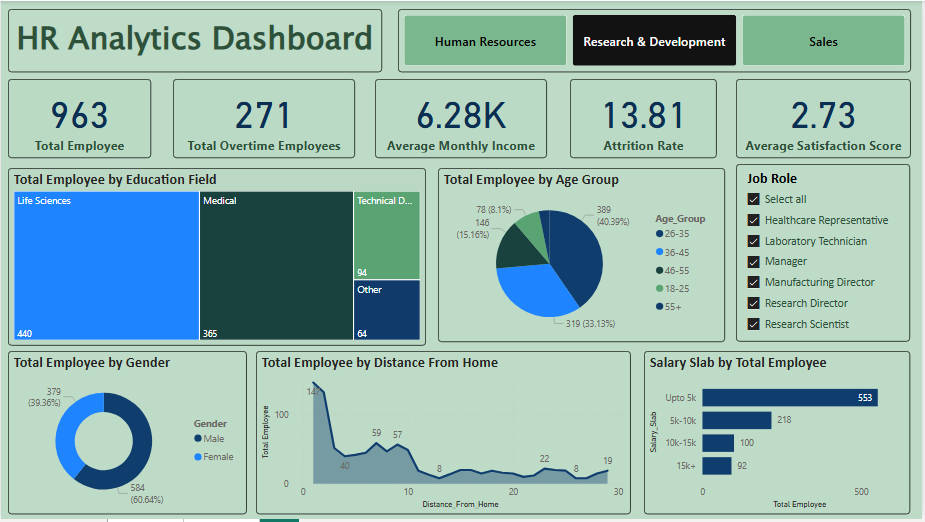

The page's visual inventory and layout, read from the dashboard file:
{"tool":"powerbi","page":{"name":"Page 1","canvas":[1280,720],"ordinal":0},"visuals":[{"type":"textbox","box":[9.7,11.1,519.8,87.6],"z":0},{"type":"card","fields":{"Values":["HR_Analytics.Total Employee"]},"box":[9.7,108.4,198.8,109.8],"z":1000},{"type":"card","fields":{"Values":["HR_Analytics.Attrition Rate"]},"box":[790.9,108.4,204.3,109.8],"z":2000},{"type":"card","fields":{"Values":["HR_Analytics.Total Overtime Employees"]},"box":[239.1,108.4,253,109.8],"z":3000},{"type":"card","fields":{"Values":["HR_Analytics.Average Monthly Income"]},"box":[519.8,108.4,239.1,109.8],"z":4000},{"type":"donutChart","fields":{"Category":["HR_Analytics.Gender"],"Y":["HR_Analytics.Total Employee"]},"box":[9.7,486.5,332.2,226.6],"z":5000},{"type":"pieChart","title":"Total Employee by Age Group","fields":{"Category":["HR_Analytics.Age_Group"],"Y":["HR_Analytics.Total Employee"]},"box":[607.4,232.1,398.9,241.9],"z":6000},{"type":"treemap","title":"Total Employee by Education Field","fields":{"Group":["HR_Analytics.Education_Field"],"Values":["HR_Analytics.Total Employee"]},"box":[9.7,232.1,581,247.4],"z":7000},{"type":"advancedSlicerVisual","fields":{"Values":["HR_Analytics.Department"]},"box":[551.8,11.1,713.1,87.6],"z":8000},{"type":"areaChart","title":"Total Employee by Distance From Home","fields":{"Category":["HR_Analytics.Distance_From_Home"],"Y":["HR_Analytics.Total Employee"]},"box":[354.4,486.5,521.2,226.6],"z":9000},{"type":"clusteredBarChart","title":"Salary Slab by Total Employee","fields":{"Category":["HR_Analytics.Salary_Slab"],"Y":["HR_Analytics.Total Employee"]},"box":[893.7,486.5,369.7,226.6],"z":10000},{"type":"slicer","fields":{"Values":["HR_Analytics.Job_Role"]},"box":[1021.6,226.6,241.9,247.4],"z":11000},{"type":"card","fields":{"Values":["HR_Analytics.Average Satisfaction Score"]},"box":[1021.6,108.4,243.2,109.8],"z":13000}]}

Visuals, with their boxes in screenshot pixels (x1, y1, x2, y2), scaled from the page's 1280x720 canvas onto the 925x522 screenshot:
textbox: 7,8,383,72
card - HR_Analytics.Total Employee: 7,79,151,158
card - HR_Analytics.Attrition Rate: 572,79,719,158
card - HR_Analytics.Total Overtime Employees: 173,79,356,158
card - HR_Analytics.Average Monthly Income: 376,79,548,158
donutChart - HR_Analytics.Gender x HR_Analytics.Total Employee: 7,353,247,517
"Total Employee by Age Group" pieChart: 439,168,727,344
"Total Employee by Education Field" treemap: 7,168,427,348
advancedSlicerVisual - HR_Analytics.Department: 399,8,914,72
"Total Employee by Distance From Home" areaChart: 256,353,633,517
"Salary Slab by Total Employee" clusteredBarChart: 646,353,913,517
slicer - HR_Analytics.Job_Role: 738,164,913,344
card - HR_Analytics.Average Satisfaction Score: 738,79,914,158
